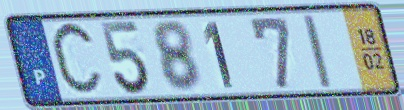1: (201, 20, 236, 89)
5: (97, 18, 152, 97)
7: (245, 15, 292, 91)
8: (151, 17, 205, 95)
C: (48, 18, 106, 102)
I: (299, 12, 335, 91)
